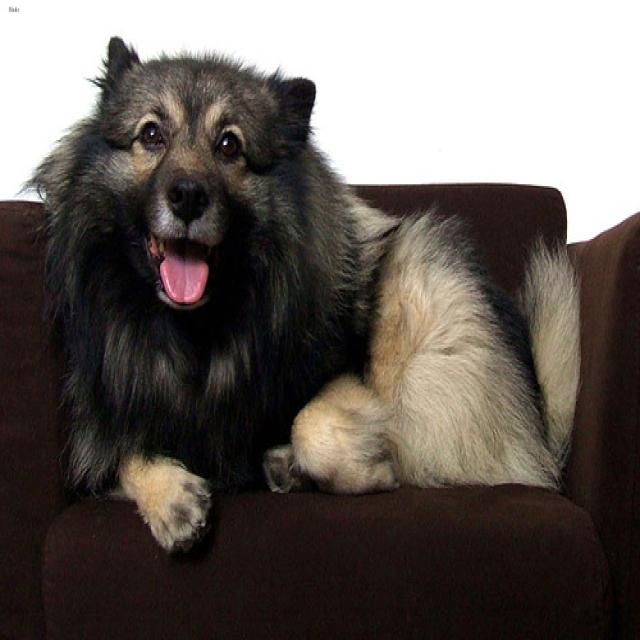dog-keeshond: (12, 27, 596, 558)
